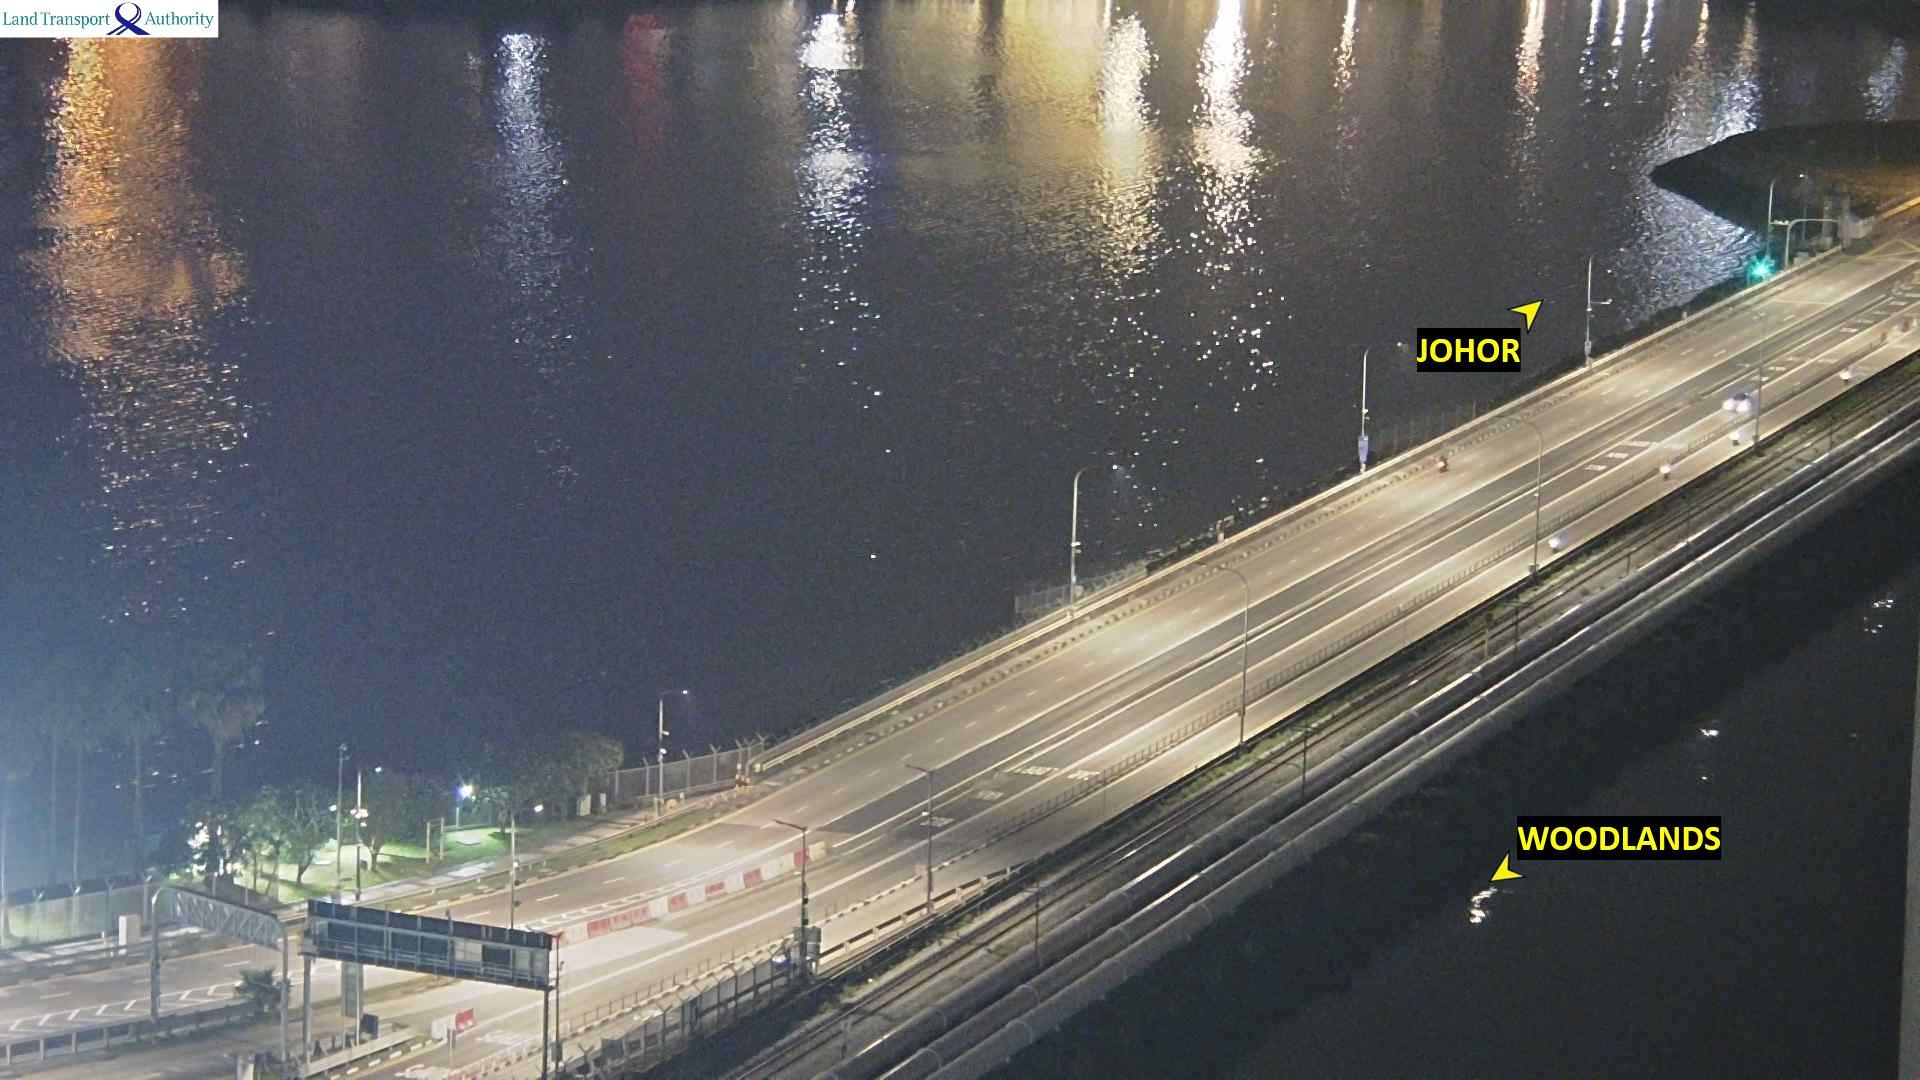vehicle-causeway-johor: (1438, 454, 1448, 472)
vehicle-causeway-singapore: (1725, 391, 1755, 417), (1841, 365, 1854, 386), (1549, 534, 1561, 553), (1661, 464, 1671, 483), (1731, 431, 1740, 446)
